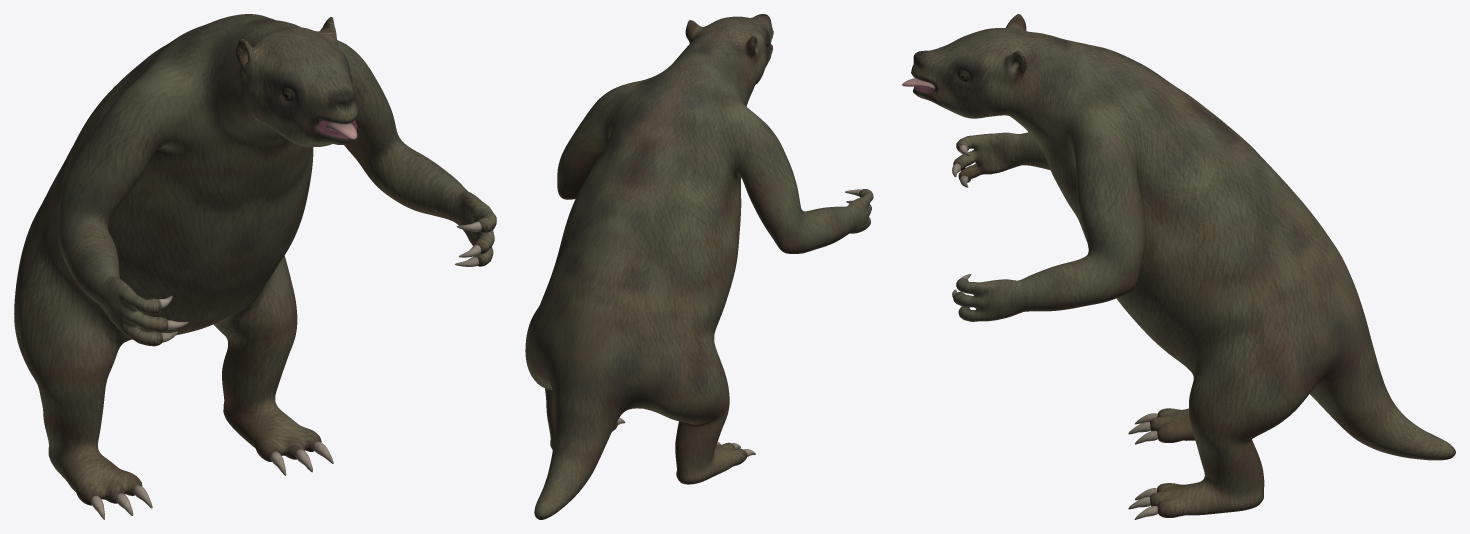
Rendered from peresoso.fbx.
3 renders of one model, left to right at view 1: azimuth 30°, elevation 25°; view 2: azimuth 150°, elevation 25°; view 3: azimuth 270°, elevation 25°, orthographic. The views are drawn at different scales.
Parts seen in each view (by area): view 1: peresoso-loww; view 2: peresoso-loww; view 3: peresoso-loww.
Boxes of the visible parts, <box> form: peresoso-loww: <box>14,14,496,519</box>; peresoso-loww: <box>525,14,873,519</box>; peresoso-loww: <box>911,14,1455,519</box>.
Bounding box in the file's own units: 374 × 489 × 558.
